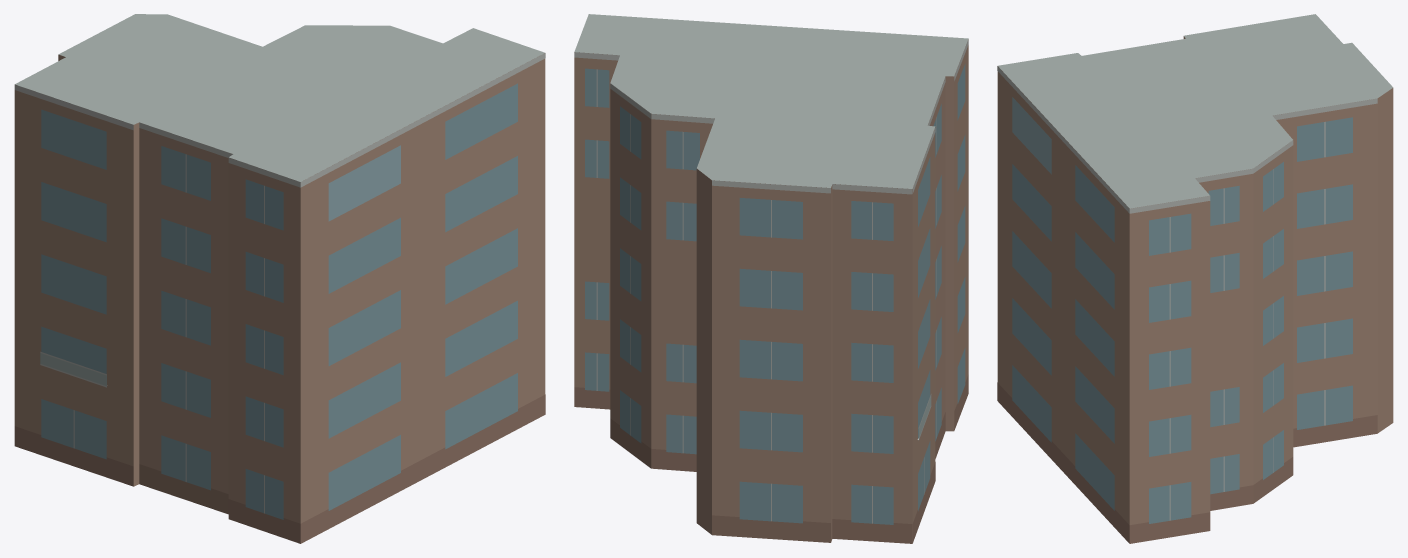
File: survey-upis-32750474.glb
3 renders of one model, left to right at view 1: azimuth 30°, elevation 25°; view 2: azimuth 150°, elevation 25°; view 3: azimuth 270°, elevation 25°, orthographic. The views are drawn at different scales.
Parts seen in each view (by area): view 1: survey-upis-32750474.tmp; view 2: survey-upis-32750474.tmp; view 3: survey-upis-32750474.tmp.
Part boxes in pixels (x1=…): survey-upis-32750474.tmp: x1=14, y1=14, x2=545, y2=543; survey-upis-32750474.tmp: x1=574, y1=14, x2=968, y2=543; survey-upis-32750474.tmp: x1=997, y1=14, x2=1393, y2=543.
Bounding box in the file's own units: 19.81 × 15.9 × 17.03.
